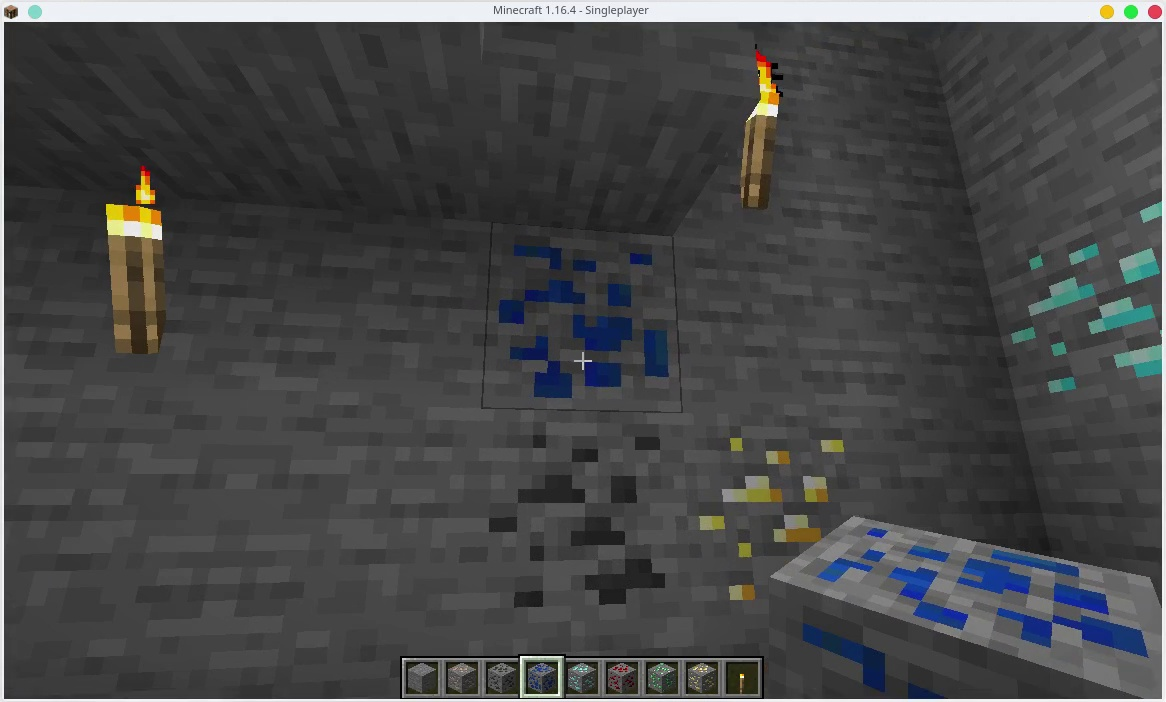gold: (689, 430, 845, 545), (687, 659, 718, 695)
